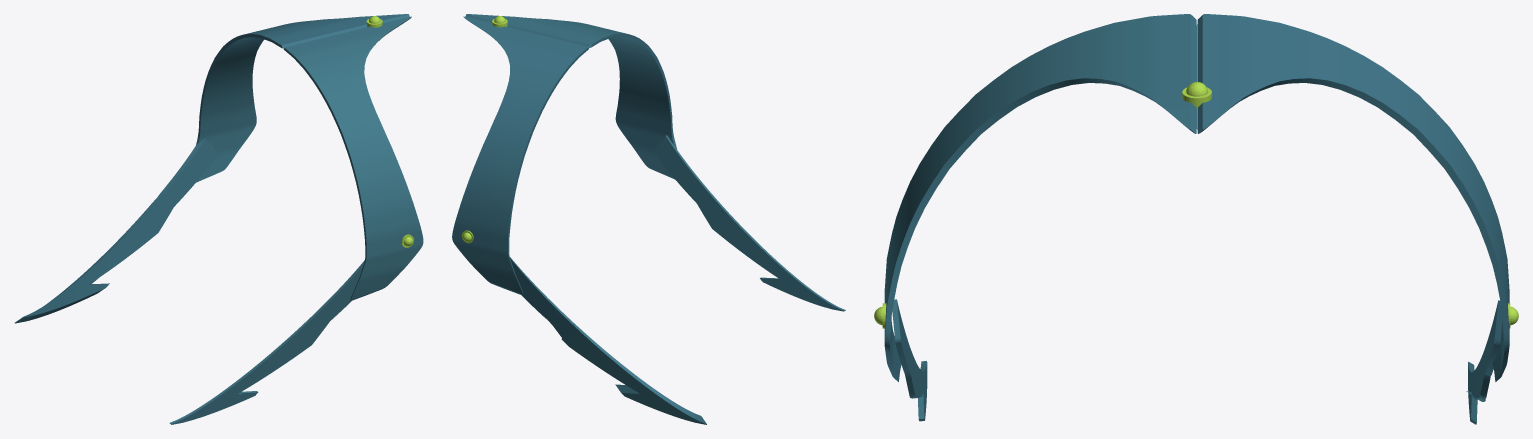
Rendered from Xylene's Ship_Arco.obj.
3 renders of one model, left to right at view 1: azimuth 30°, elevation 25°; view 2: azimuth 150°, elevation 25°; view 3: azimuth 270°, elevation 25°, orthographic. The views are drawn at different scales.
Visible parts, largest first — view 1: Arco; view 2: Arco; view 3: Arco, Extras2.
Part boxes in pixels (bbox=[...]): Arco: bbox=[15, 14, 423, 424]; Arco: bbox=[452, 14, 845, 424]; Arco: bbox=[884, 14, 1509, 424]; Extras2: bbox=[874, 81, 1518, 328].
Size of the model in its own units: 25.03 by 21.78 by 23.42.
